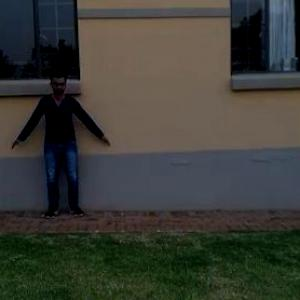land: (11, 71, 113, 228)
